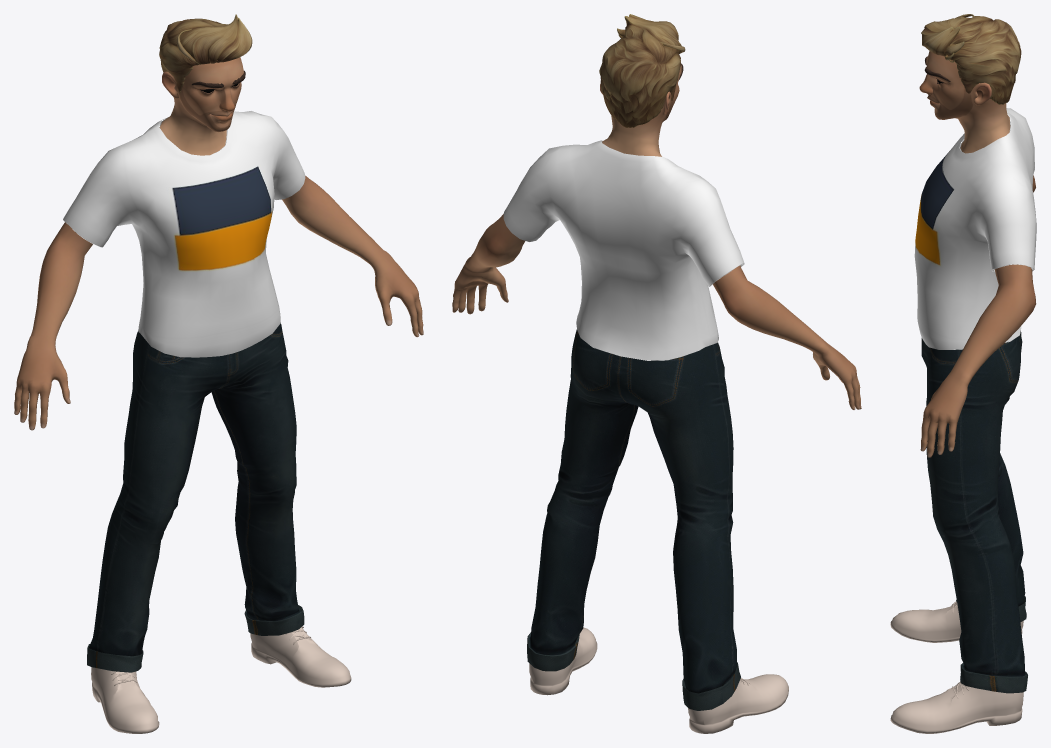
3 renders of one model, left to right at view 1: azimuth 30°, elevation 25°; view 2: azimuth 150°, elevation 25°; view 3: azimuth 270°, elevation 25°, orthographic.
Visible parts, largest first — view 1: jeansA_mm_legs_jeans_blue, mm_t-shirt_custom_logo, torso_mm_body_wesA_skinA, bootsA_mm_feet_bootsA_brown, head_mm_head_wesA_skinA, hair_mm_wesA_hairA; view 2: jeansA_mm_legs_jeans_blue, mm_t-shirt_custom_logo, torso_mm_body_wesA_skinA, hair_mm_wesA_hairA, bootsA_mm_feet_bootsA_brown, head_mm_head_wesA_skinA; view 3: jeansA_mm_legs_jeans_blue, mm_t-shirt_custom_logo, torso_mm_body_wesA_skinA, bootsA_mm_feet_bootsA_brown, hair_mm_wesA_hairA, head_mm_head_wesA_skinA.
Part boxes in pixels (x1,y1,x2,y2): jeansA_mm_legs_jeans_blue: (87, 323, 304, 672); mm_t-shirt_custom_logo: (63, 111, 305, 357); torso_mm_body_wesA_skinA: (14, 111, 423, 430); bootsA_mm_feet_bootsA_brown: (91, 627, 351, 733); head_mm_head_wesA_skinA: (162, 57, 243, 138); hair_mm_wesA_hairA: (159, 14, 252, 92); jeansA_mm_legs_jeans_blue: (527, 329, 740, 710); mm_t-shirt_custom_logo: (503, 140, 744, 360); torso_mm_body_wesA_skinA: (452, 134, 861, 409); hair_mm_wesA_hairA: (599, 14, 685, 127); bootsA_mm_feet_bootsA_brown: (529, 627, 788, 733); head_mm_head_wesA_skinA: (600, 64, 681, 145); jeansA_mm_legs_jeans_blue: (921, 331, 1027, 693); mm_t-shirt_custom_logo: (914, 108, 1036, 349); torso_mm_body_wesA_skinA: (920, 115, 1036, 457); bootsA_mm_feet_bootsA_brown: (890, 602, 1023, 733); hair_mm_wesA_hairA: (921, 14, 1021, 104); head_mm_head_wesA_skinA: (919, 51, 1007, 137).
Size of the model in its own units: 1.18 by 1.88 by 0.3737.
